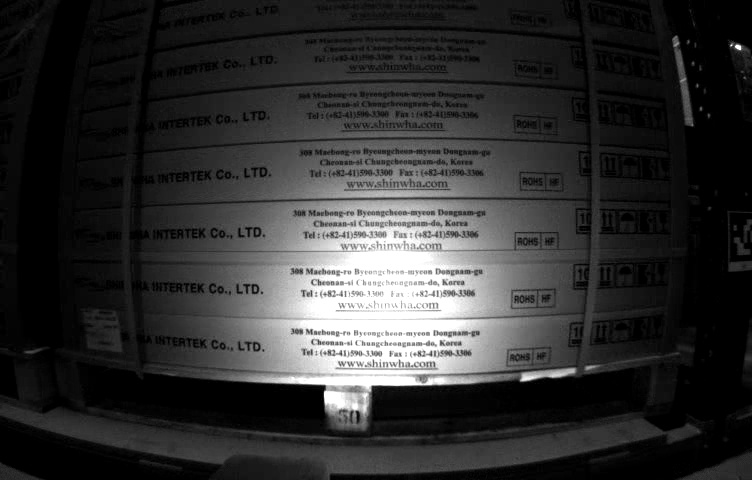True Barcode: (78, 304, 122, 358)
